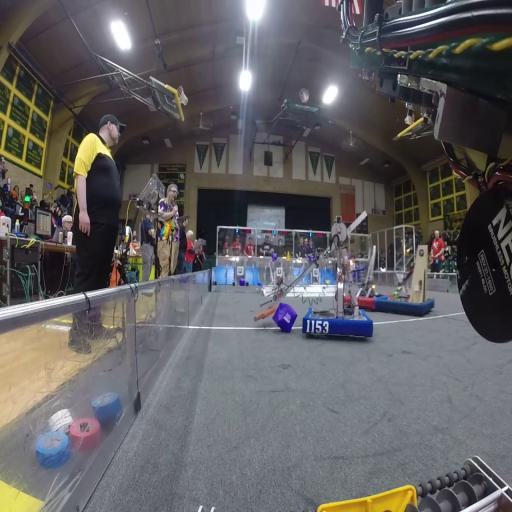robot: (306, 226, 374, 338), (380, 234, 442, 319)
